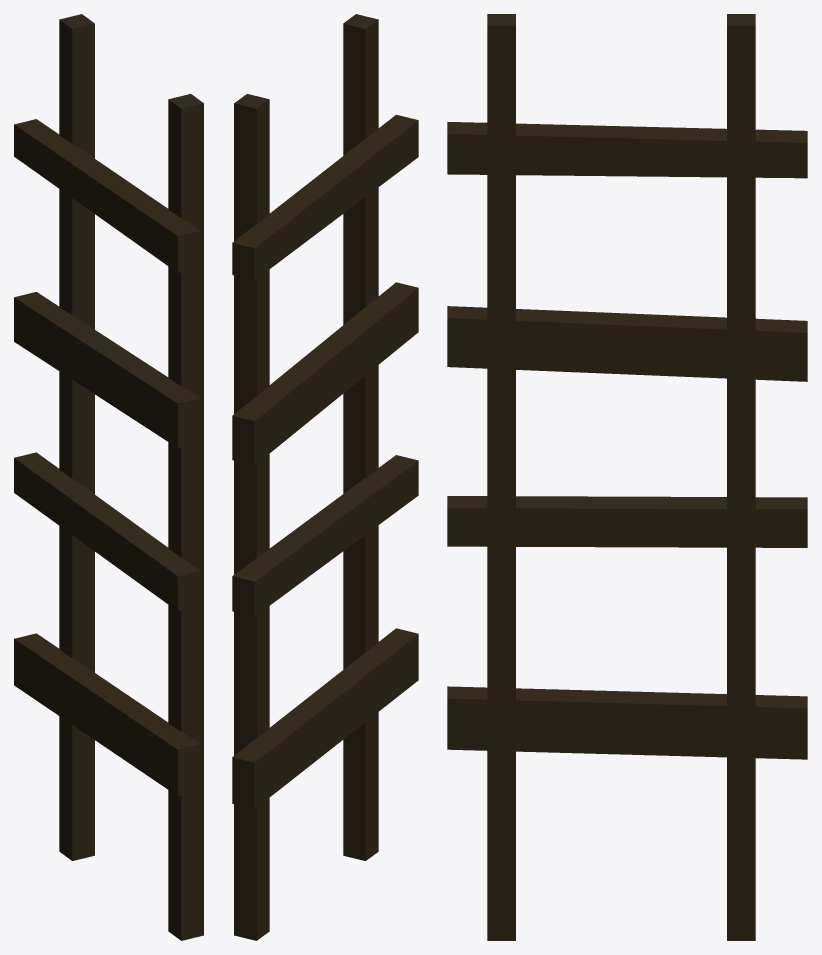
The picture shows the model from 3 angles, left to right: view 1: azimuth 30°, elevation 25°; view 2: azimuth 150°, elevation 25°; view 3: azimuth 270°, elevation 25°; orthographic projection. The views are drawn at different scales.
Parts seen in each view (by area): view 1: Cylinder027; view 2: Cylinder027; view 3: Cylinder027.
Part boxes in pixels (x1=…): Cylinder027: x1=14, y1=14, x2=203, y2=940; Cylinder027: x1=232, y1=14, x2=418, y2=940; Cylinder027: x1=447, y1=14, x2=807, y2=940.
Bounding box in the file's own units: 0.1114 × 2 × 0.7138.
